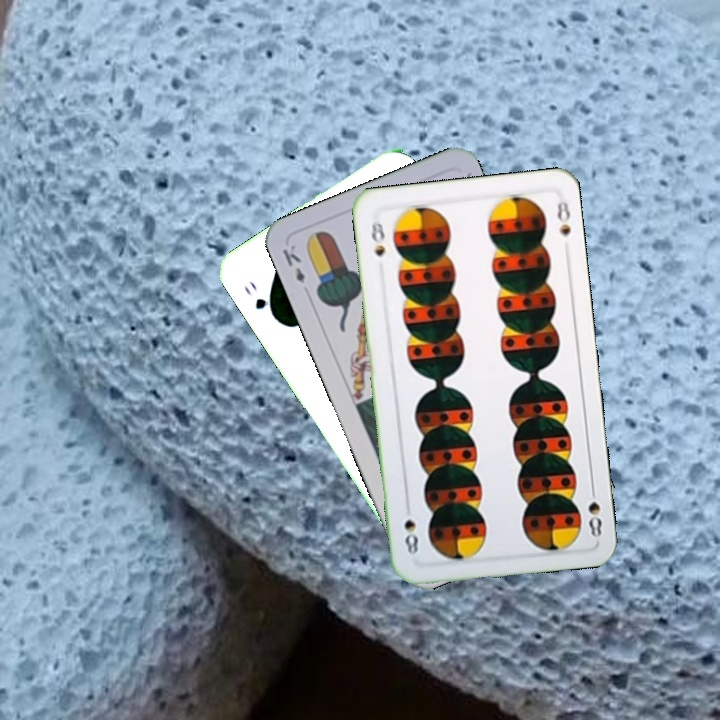EK: (278, 240, 308, 286)
GO: (240, 276, 279, 322)
S8: (584, 481, 605, 540), (367, 217, 388, 259)
